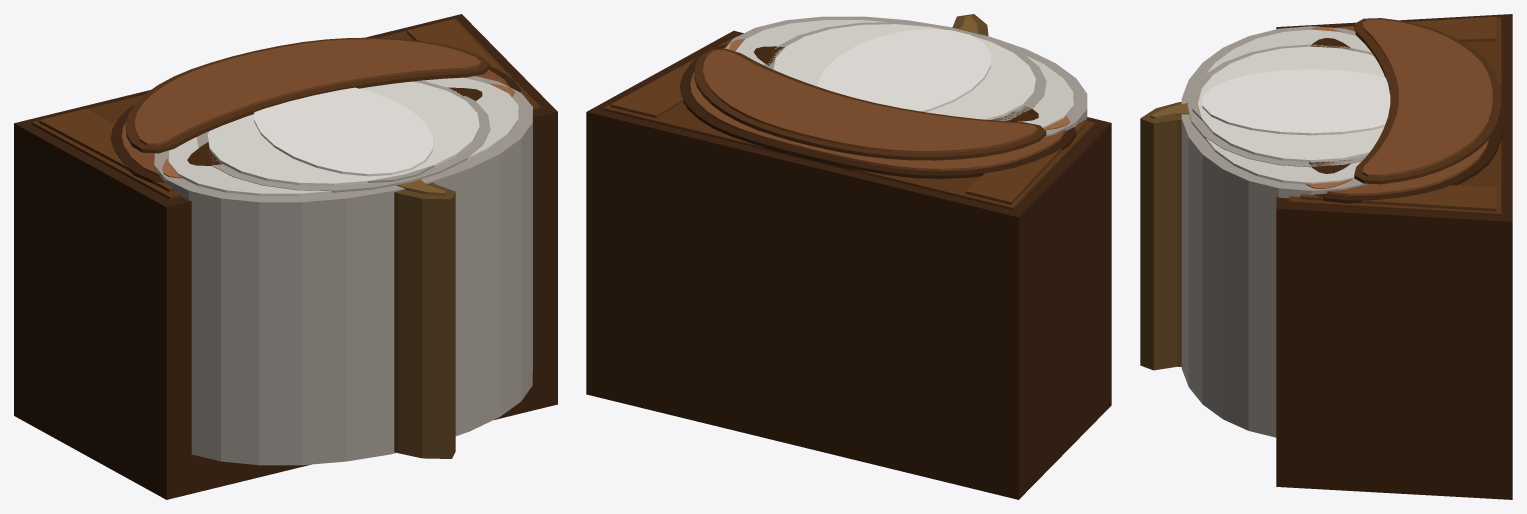
Rendered from bag_abobora_branca.fbx.
3 renders of one model, left to right at view 1: azimuth 30°, elevation 25°; view 2: azimuth 150°, elevation 25°; view 3: azimuth 270°, elevation 25°, orthographic. The views are drawn at different scales.
Visible parts, largest first — view 1: bag_abobora_branca_mochila; view 2: bag_abobora_branca_mochila; view 3: bag_abobora_branca_mochila.
Part boxes in pixels (<box>): bag_abobora_branca_mochila: <box>14,14,557,499</box>; bag_abobora_branca_mochila: <box>586,14,1111,499</box>; bag_abobora_branca_mochila: <box>1140,14,1512,499</box>.
Bounding box in the file's own units: 2.85 × 1.91 × 2.16.
1 material, 1 textured.
